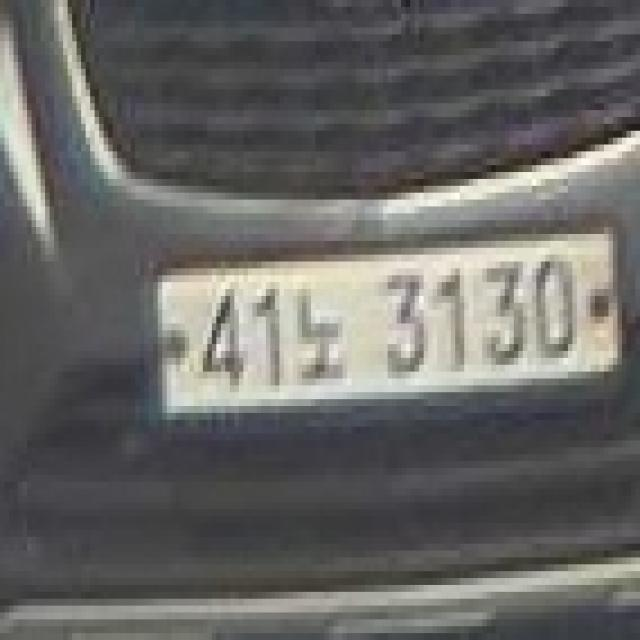0: (532, 262, 577, 364)
1: (252, 282, 288, 392), (437, 262, 469, 378)
3: (482, 255, 528, 372), (383, 276, 428, 378)
4: (198, 289, 248, 399)
license_plate: (144, 206, 627, 434)
no: (293, 289, 347, 385)
